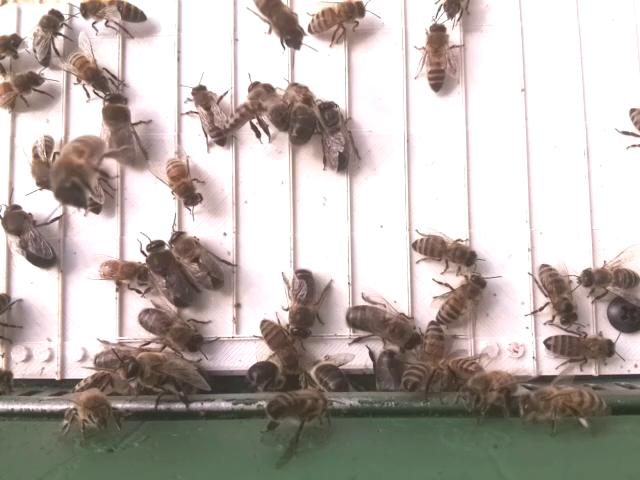Drone: (0, 202, 60, 272), (344, 300, 422, 351), (144, 235, 194, 311), (169, 229, 226, 292), (134, 303, 204, 354), (102, 89, 144, 170), (318, 99, 353, 176), (286, 265, 317, 344), (287, 77, 318, 146)
Worker: (534, 259, 578, 331), (434, 272, 489, 327), (188, 81, 232, 147), (541, 331, 618, 366), (408, 232, 480, 267), (162, 152, 205, 210), (304, 0, 368, 38), (256, 314, 297, 372), (420, 21, 451, 94), (31, 7, 66, 71), (76, 0, 153, 27), (65, 46, 111, 91), (577, 264, 640, 295), (28, 128, 57, 194), (94, 255, 150, 289)
